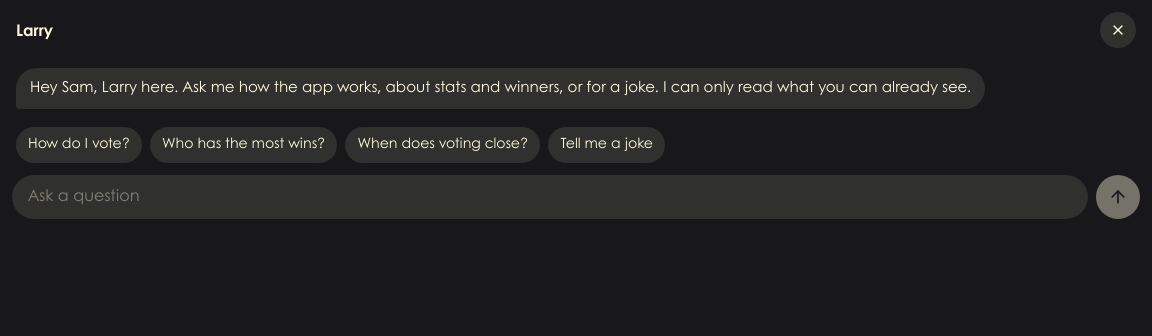
Test: Ask Larry panel › a typed question sends and clears the box; empty does nothing
The width and height of the screenshot is (1152, 336).
Submit the form named "Ask a question", box [0,171,1151,231]
Type "hello" into the field labelled "Ask a question".
click(550, 197); type("hello")  # box [12,175,1088,219]
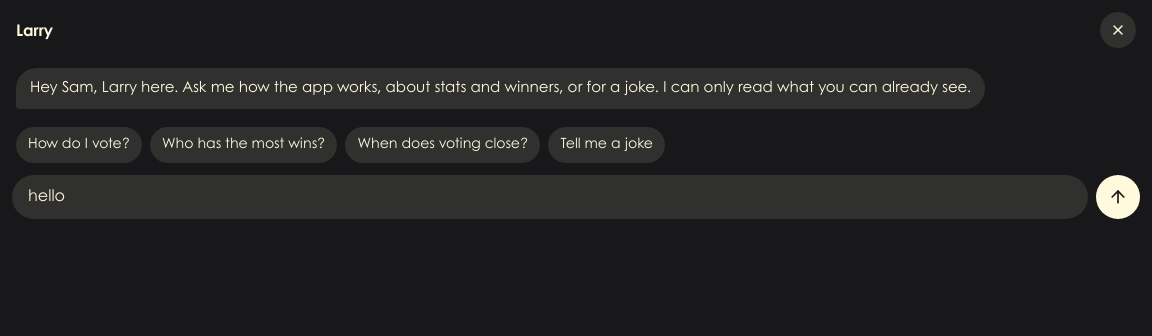
Submit the form named "Ask a question", box [0,171,1151,231]
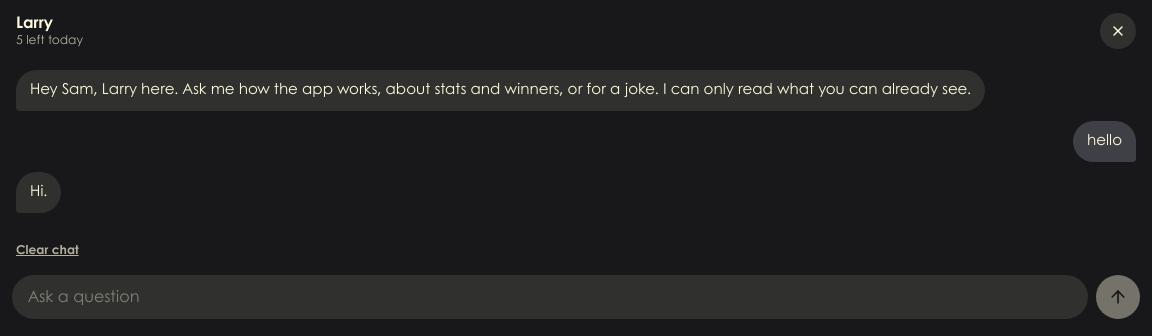
Now the text "Hi." is shown, box [30,185,47,199]
Now the field labelled "Ask a question" is empty, box [12,275,1088,319]
